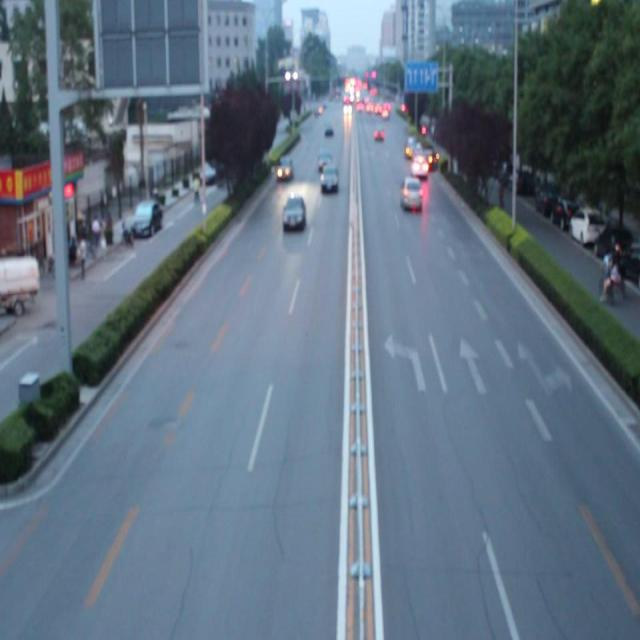car: (282, 193, 305, 231), (400, 174, 422, 210)
